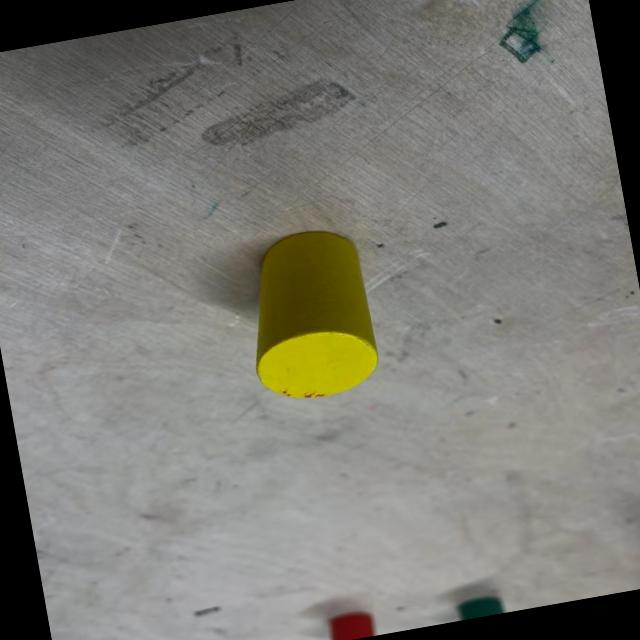yellow_cylinder: (232, 222, 385, 408)
